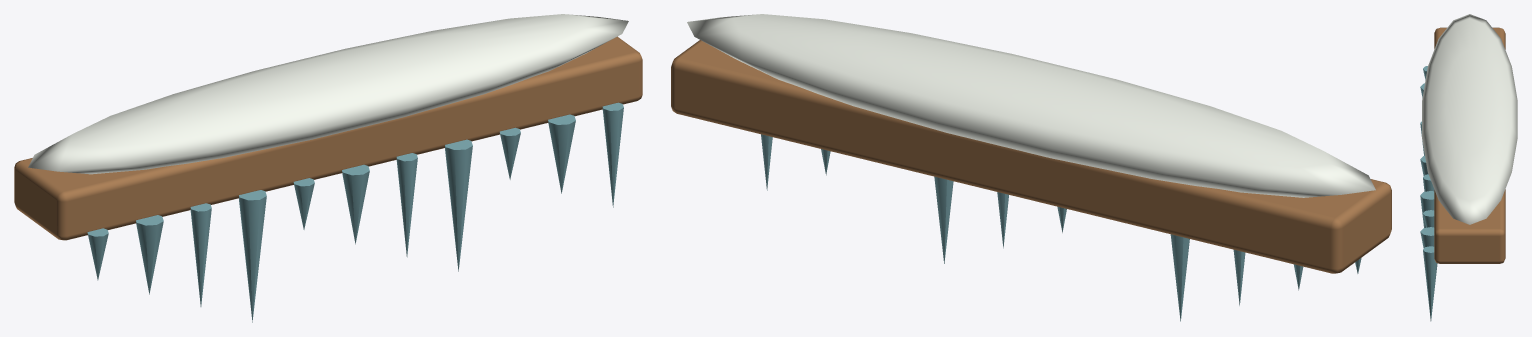
The model's file is almanac-gardens-icicle-eaves-679d0463__22094.glb.
3 renders of one model, left to right at view 1: azimuth 30°, elevation 25°; view 2: azimuth 150°, elevation 25°; view 3: azimuth 270°, elevation 25°, orthographic. The views are drawn at different scales.
Parts seen in each view (by area): view 1: icicle-eaves-snow, icicle-eaves-oak, icicle-eaves-blue; view 2: icicle-eaves-snow, icicle-eaves-oak, icicle-eaves-blue; view 3: icicle-eaves-snow, icicle-eaves-oak, icicle-eaves-blue.
Part boxes in pixels (<box>): icicle-eaves-snow: <box>28,14,628,174</box>; icicle-eaves-oak: <box>14,36,642,240</box>; icicle-eaves-blue: <box>87,102,623,322</box>; icicle-eaves-snow: <box>687,14,1375,197</box>; icicle-eaves-oak: <box>671,40,1391,273</box>; icicle-eaves-blue: <box>761,134,1361,321</box>; icicle-eaves-snow: <box>1422,14,1517,224</box>; icicle-eaves-oak: <box>1434,27,1505,263</box>; icicle-eaves-blue: <box>1420,66,1437,321</box>.
Size of the model in its own units: 1.54 by 0.5149 by 0.3007.
